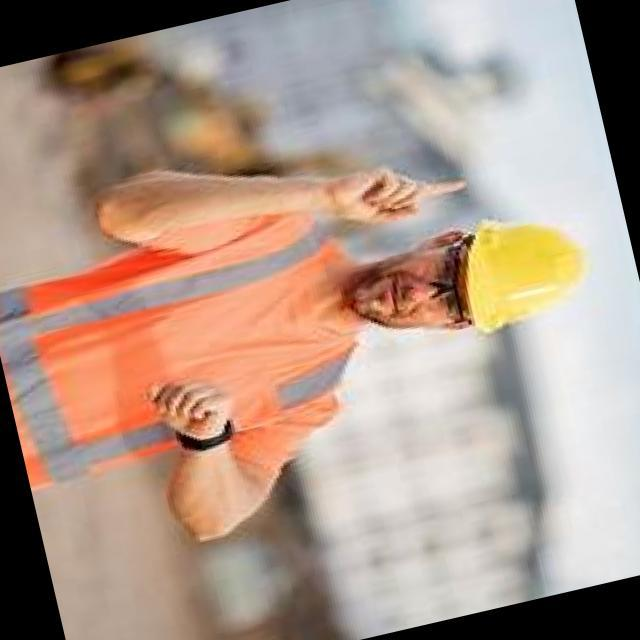not-gloved: (315, 137, 484, 245), (144, 364, 242, 450)
